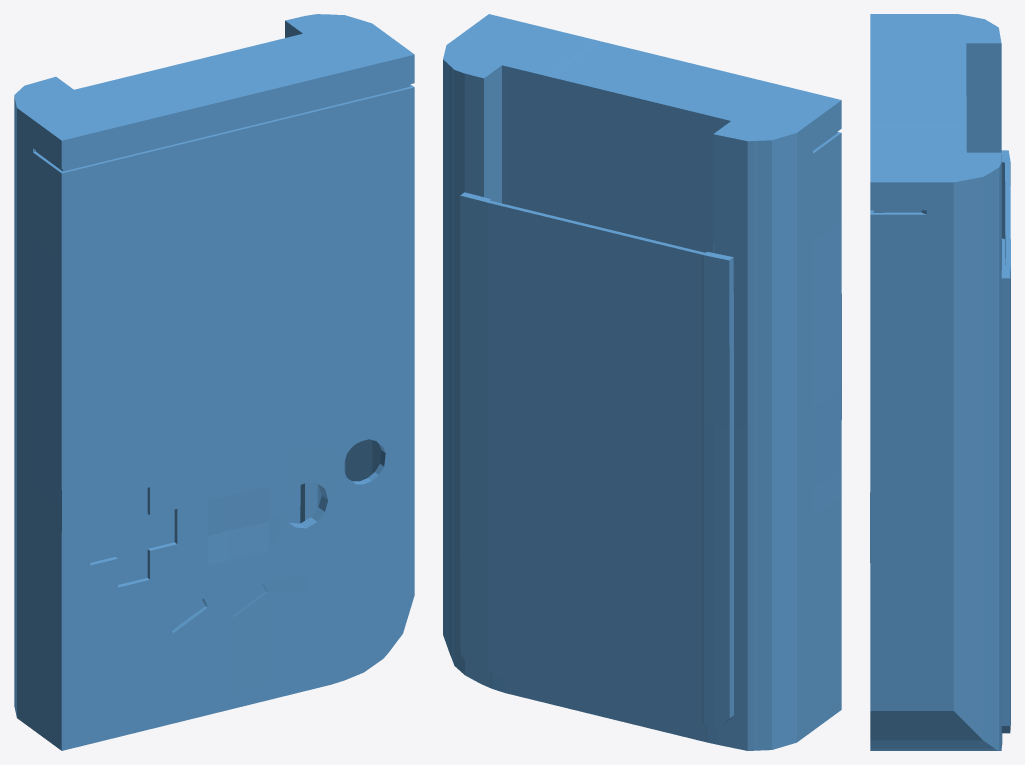
The model's file is GameBoy3_glTF.glb.
The picture shows the model from 3 angles, left to right: view 1: azimuth 30°, elevation 25°; view 2: azimuth 150°, elevation 25°; view 3: azimuth 270°, elevation 25°; orthographic projection. The views are drawn at different scales.
Parts seen in each view (by area): view 1: GameBoy; view 2: GameBoy; view 3: GameBoy.
Boxes of the visible parts, bbox=[...] form: GameBoy: bbox=[14, 14, 414, 750]; GameBoy: bbox=[443, 14, 841, 750]; GameBoy: bbox=[870, 14, 1010, 750].
Bounding box in the file's own units: 0.0901 × 0.1487 × 0.0318.
